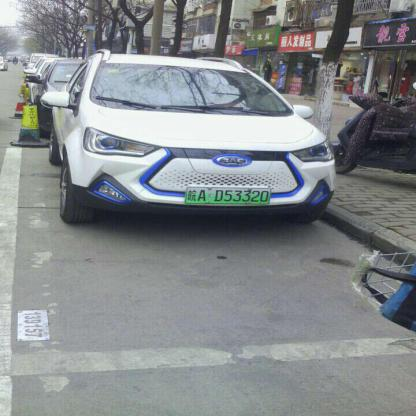lp: (184, 186, 270, 204)
